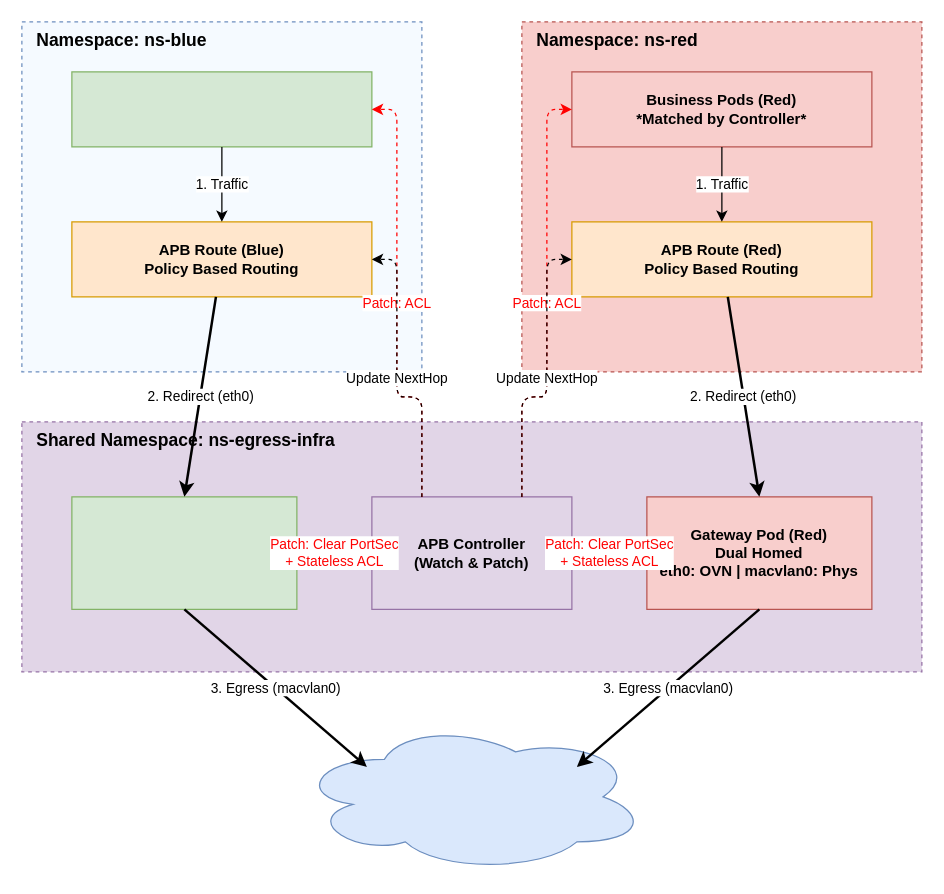
Some shapes in this 944 by 894 pixel diagram are drawn without their labels. Here are the shapes that lost their labels. From the top down, the centre of each, then its label:
the point at 221,109: Business Pods (Blue) *Matched by Controller*
the point at 184,552: Gateway Pod (Blue) Dual Homed eth0: OVN | macvlan0: Phys
the point at 471,796: External Network Internet 8.8.8.8
